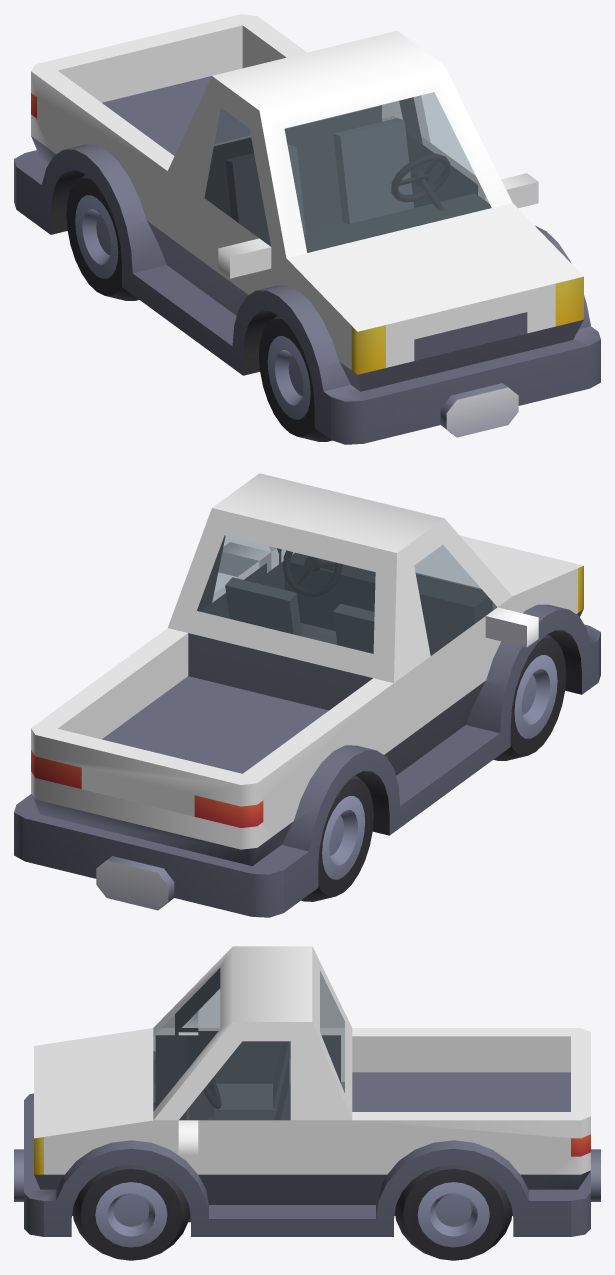
Rendered from pickup.glb.
The picture shows the model from 3 angles, top to bottom: view 1: azimuth 30°, elevation 25°; view 2: azimuth 150°, elevation 25°; view 3: azimuth 270°, elevation 25°; orthographic projection. The views are drawn at different scales.
Parts seen in each view (by area): view 1: paint, body, glass, interior, door-front-right-paint, wheel-front-right, wheel-back-right, door-front-right-glass, door-front-right-panel, steering-wheel, door-front-left-glass, door-front-left-trim (+1 smaller); view 2: paint, body, glass, interior, door-front-right-paint, wheel-front-right, wheel-back-right, door-front-right-glass, door-front-right-panel, door-front-left-glass, steering-wheel, door-front-left-trim; view 3: paint, body, door-front-left-paint, interior, wheel-back-left, wheel-front-left, door-front-left-glass, glass, door-front-left-panel, door-front-right-trim, door-front-right-glass.
Part boxes in pixels (x1=…): paint: x1=31, y1=14, x2=583, y2=369; body: x1=14, y1=76, x2=600, y2=444; glass: x1=214, y1=92, x2=491, y2=252; interior: x1=204, y1=105, x2=491, y2=252; door-front-right-paint: x1=187, y1=95, x2=278, y2=294; wheel-front-right: x1=259, y1=315, x2=331, y2=441; wheel-back-right: x1=66, y1=174, x2=138, y2=300; door-front-right-glass: x1=204, y1=108, x2=270, y2=246; door-front-right-panel: x1=187, y1=250, x2=248, y2=349; steering-wheel: x1=391, y1=153, x2=450, y2=210; door-front-left-glass: x1=421, y1=92, x2=474, y2=174; door-front-left-trim: x1=399, y1=97, x2=477, y2=194; paint: x1=31, y1=473, x2=583, y2=849; body: x1=14, y1=552, x2=600, y2=917; glass: x1=197, y1=536, x2=479, y2=653; interior: x1=211, y1=552, x2=492, y2=655; door-front-right-paint: x1=396, y1=534, x2=538, y2=733; wheel-front-right: x1=493, y1=634, x2=566, y2=760; wheel-back-right: x1=301, y1=775, x2=373, y2=901; door-front-right-glass: x1=414, y1=545, x2=496, y2=655; door-front-right-panel: x1=400, y1=680, x2=506, y2=771; door-front-left-glass: x1=214, y1=536, x2=270, y2=593; steering-wheel: x1=283, y1=550, x2=342, y2=596; door-front-left-trim: x1=197, y1=535, x2=281, y2=613; paint: x1=34, y1=946, x2=590, y2=1174; body: x1=14, y1=1051, x2=600, y2=1236; door-front-left-paint: x1=175, y1=1041, x2=319, y2=1174; interior: x1=155, y1=1035, x2=340, y2=1222; wheel-back-left: x1=395, y1=1165, x2=512, y2=1260; wheel-front-left: x1=72, y1=1165, x2=189, y2=1260; door-front-left-glass: x1=179, y1=1041, x2=290, y2=1119; glass: x1=153, y1=968, x2=344, y2=1110; door-front-left-panel: x1=197, y1=1174, x2=319, y2=1217; door-front-right-trim: x1=175, y1=968, x2=220, y2=1120; door-front-right-glass: x1=182, y1=989, x2=219, y2=1027.
Bounding box in the file's own units: 2.4 × 2.08 × 4.72.
Materials: 4 (1 with a texture image).
